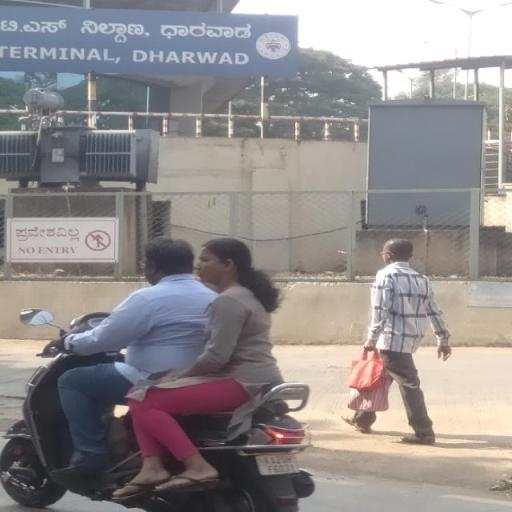bike: (4, 229, 325, 512)
withouthelmet: (200, 240, 250, 282), (143, 239, 190, 280)
